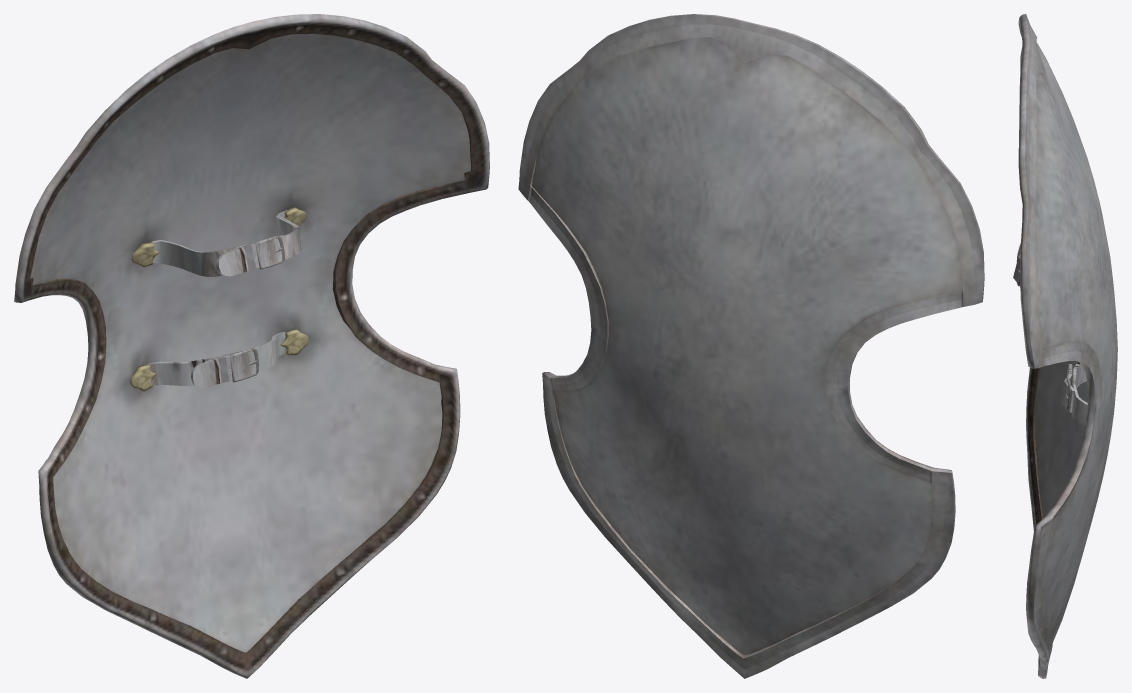
The model's file is weapon-wp_a_2231.glb.
3 views of the same model, side by side, from view 1: azimuth 30°, elevation 25°; view 2: azimuth 150°, elevation 25°; view 3: azimuth 270°, elevation 25° (orthographic). The views are drawn at different scales.
Visible parts, largest first — view 1: wp_a_2231_mesh; view 2: wp_a_2231_mesh; view 3: wp_a_2231_mesh.
Part boxes in pixels (<box>): wp_a_2231_mesh: <box>14,14,489,678</box>; wp_a_2231_mesh: <box>518,14,984,678</box>; wp_a_2231_mesh: <box>1013,14,1117,678</box>.
Size of the model in its own units: 0.5474 by 0.7318 by 0.1091.
Materials: 2 (2 with a texture image).
